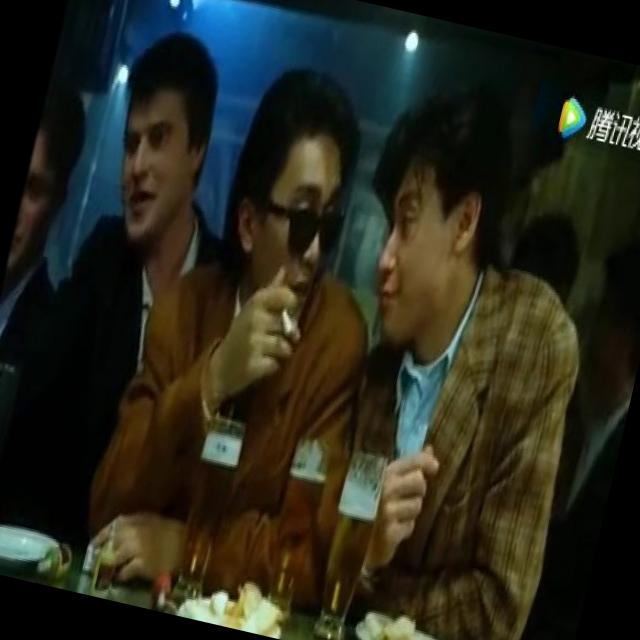cigarette: (264, 283, 302, 342)
